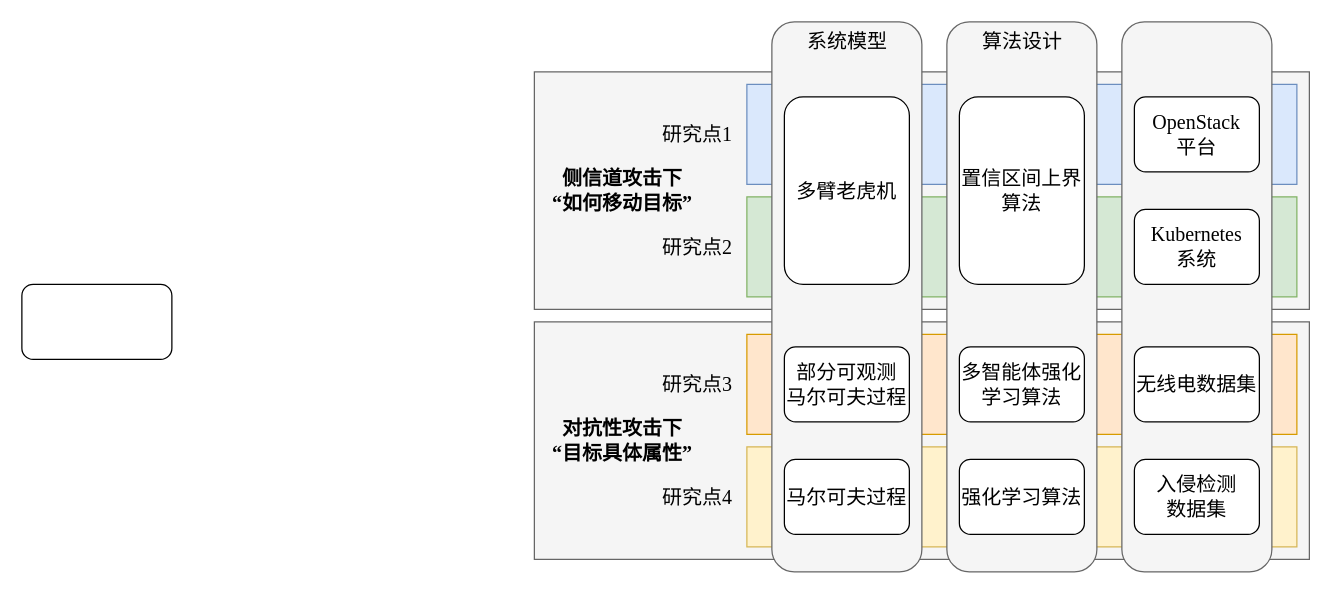
Image size: 1331x594. Some labels were removed from this diagram. Each missing label, with the box of its shape:
文献阅读 背景调研: (21, 283, 172, 359)
部署验证: (1121, 21, 1272, 572)
